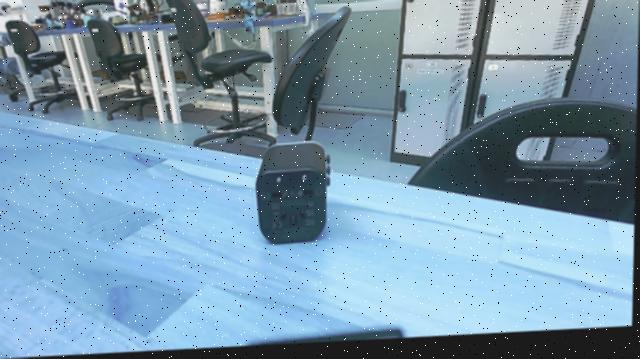adapter: (251, 134, 336, 264)
